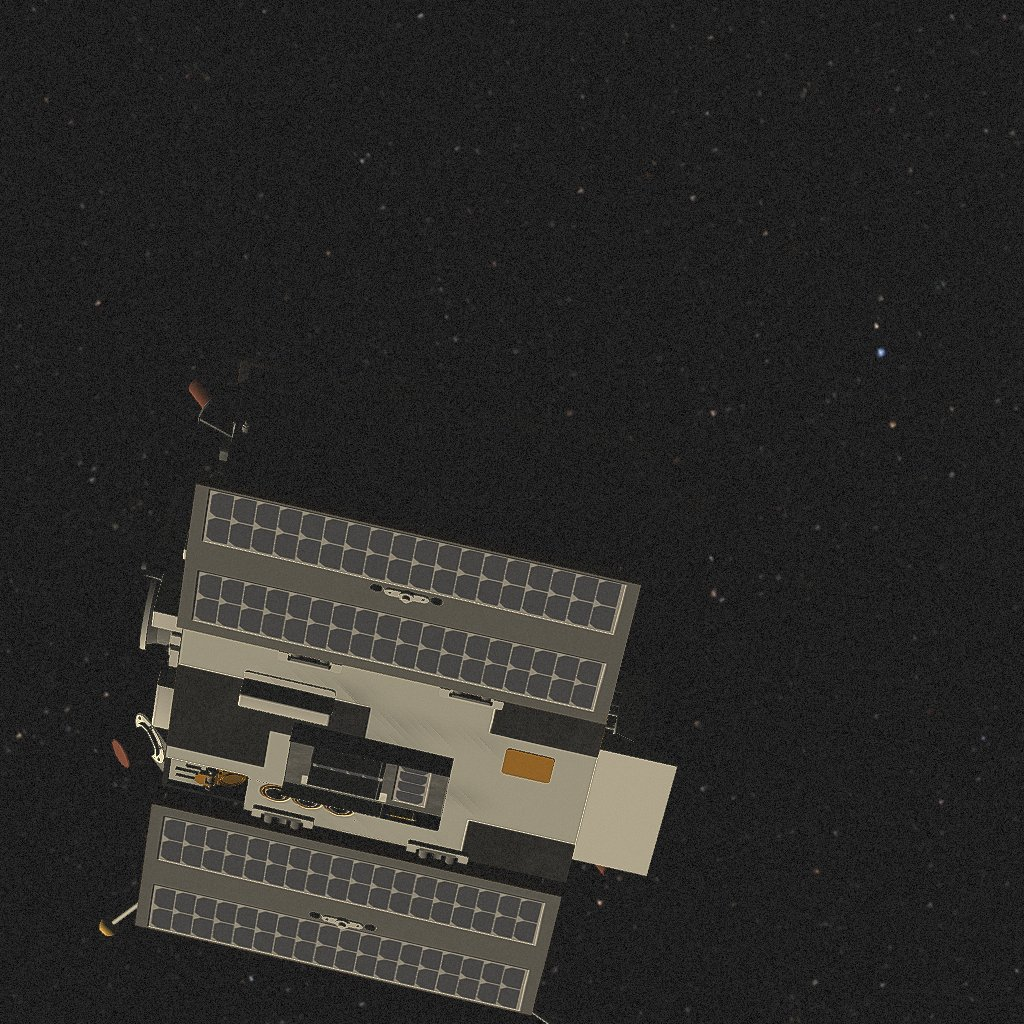proba_2: (100, 356, 711, 1024)
